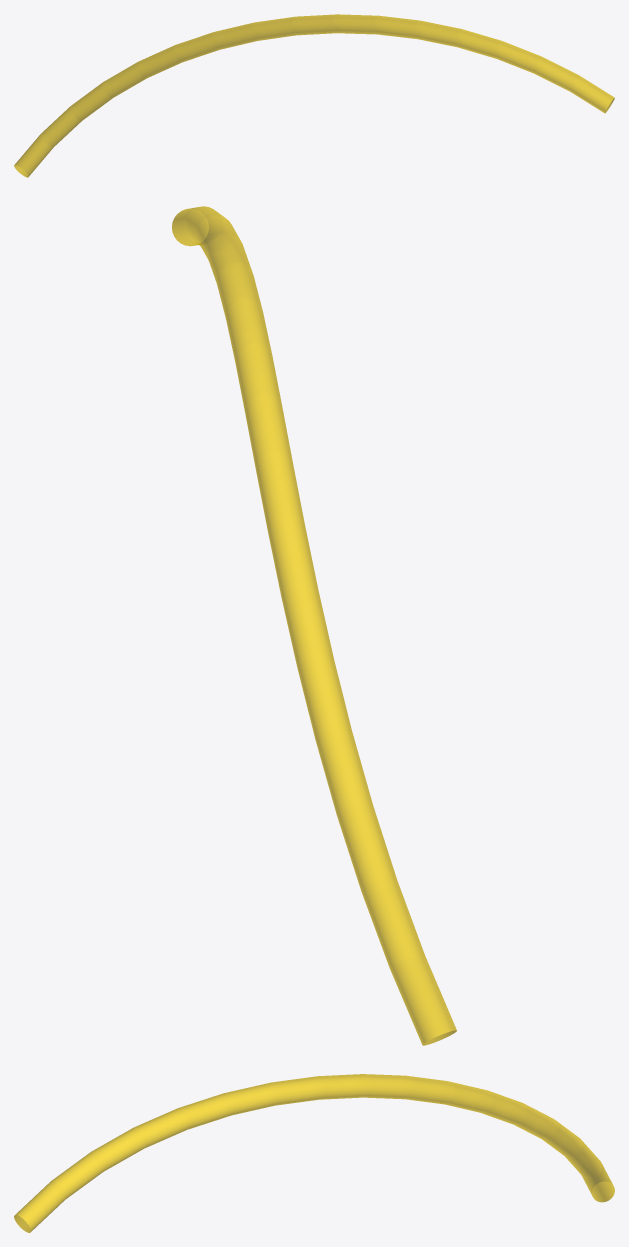
Rendered from Event_75125125_track_83.fbx.
3 renders of one model, top to bottom at view 1: azimuth 30°, elevation 25°; view 2: azimuth 150°, elevation 25°; view 3: azimuth 270°, elevation 25°, orthographic. The views are drawn at different scales.
Parts seen in each view (by area): view 1: Model; view 2: Model; view 3: Model.
Boxes of the visible parts, x1,y1,x2,y2 form: Model: [14, 14, 614, 177]; Model: [172, 206, 456, 1045]; Model: [14, 1074, 614, 1232].
Size of the model in its own units: 0.906 by 0.4791 by 1.02.
